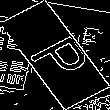P_NE: (18, 26, 92, 84)
